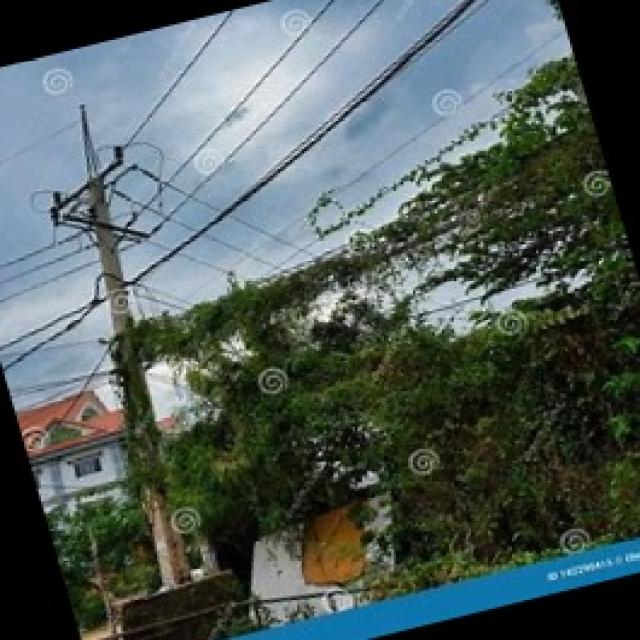critical vegetation: (122, 177, 609, 375)
